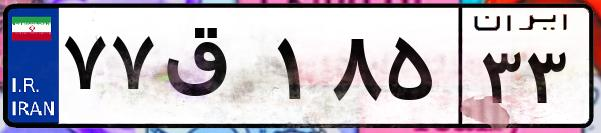1: (270, 28, 330, 110)
3: (475, 38, 525, 113), (525, 38, 570, 115)
5: (385, 28, 445, 110)
7: (57, 26, 110, 100), (110, 28, 158, 98)
8: (330, 28, 385, 110)
ق: (158, 20, 270, 120)
